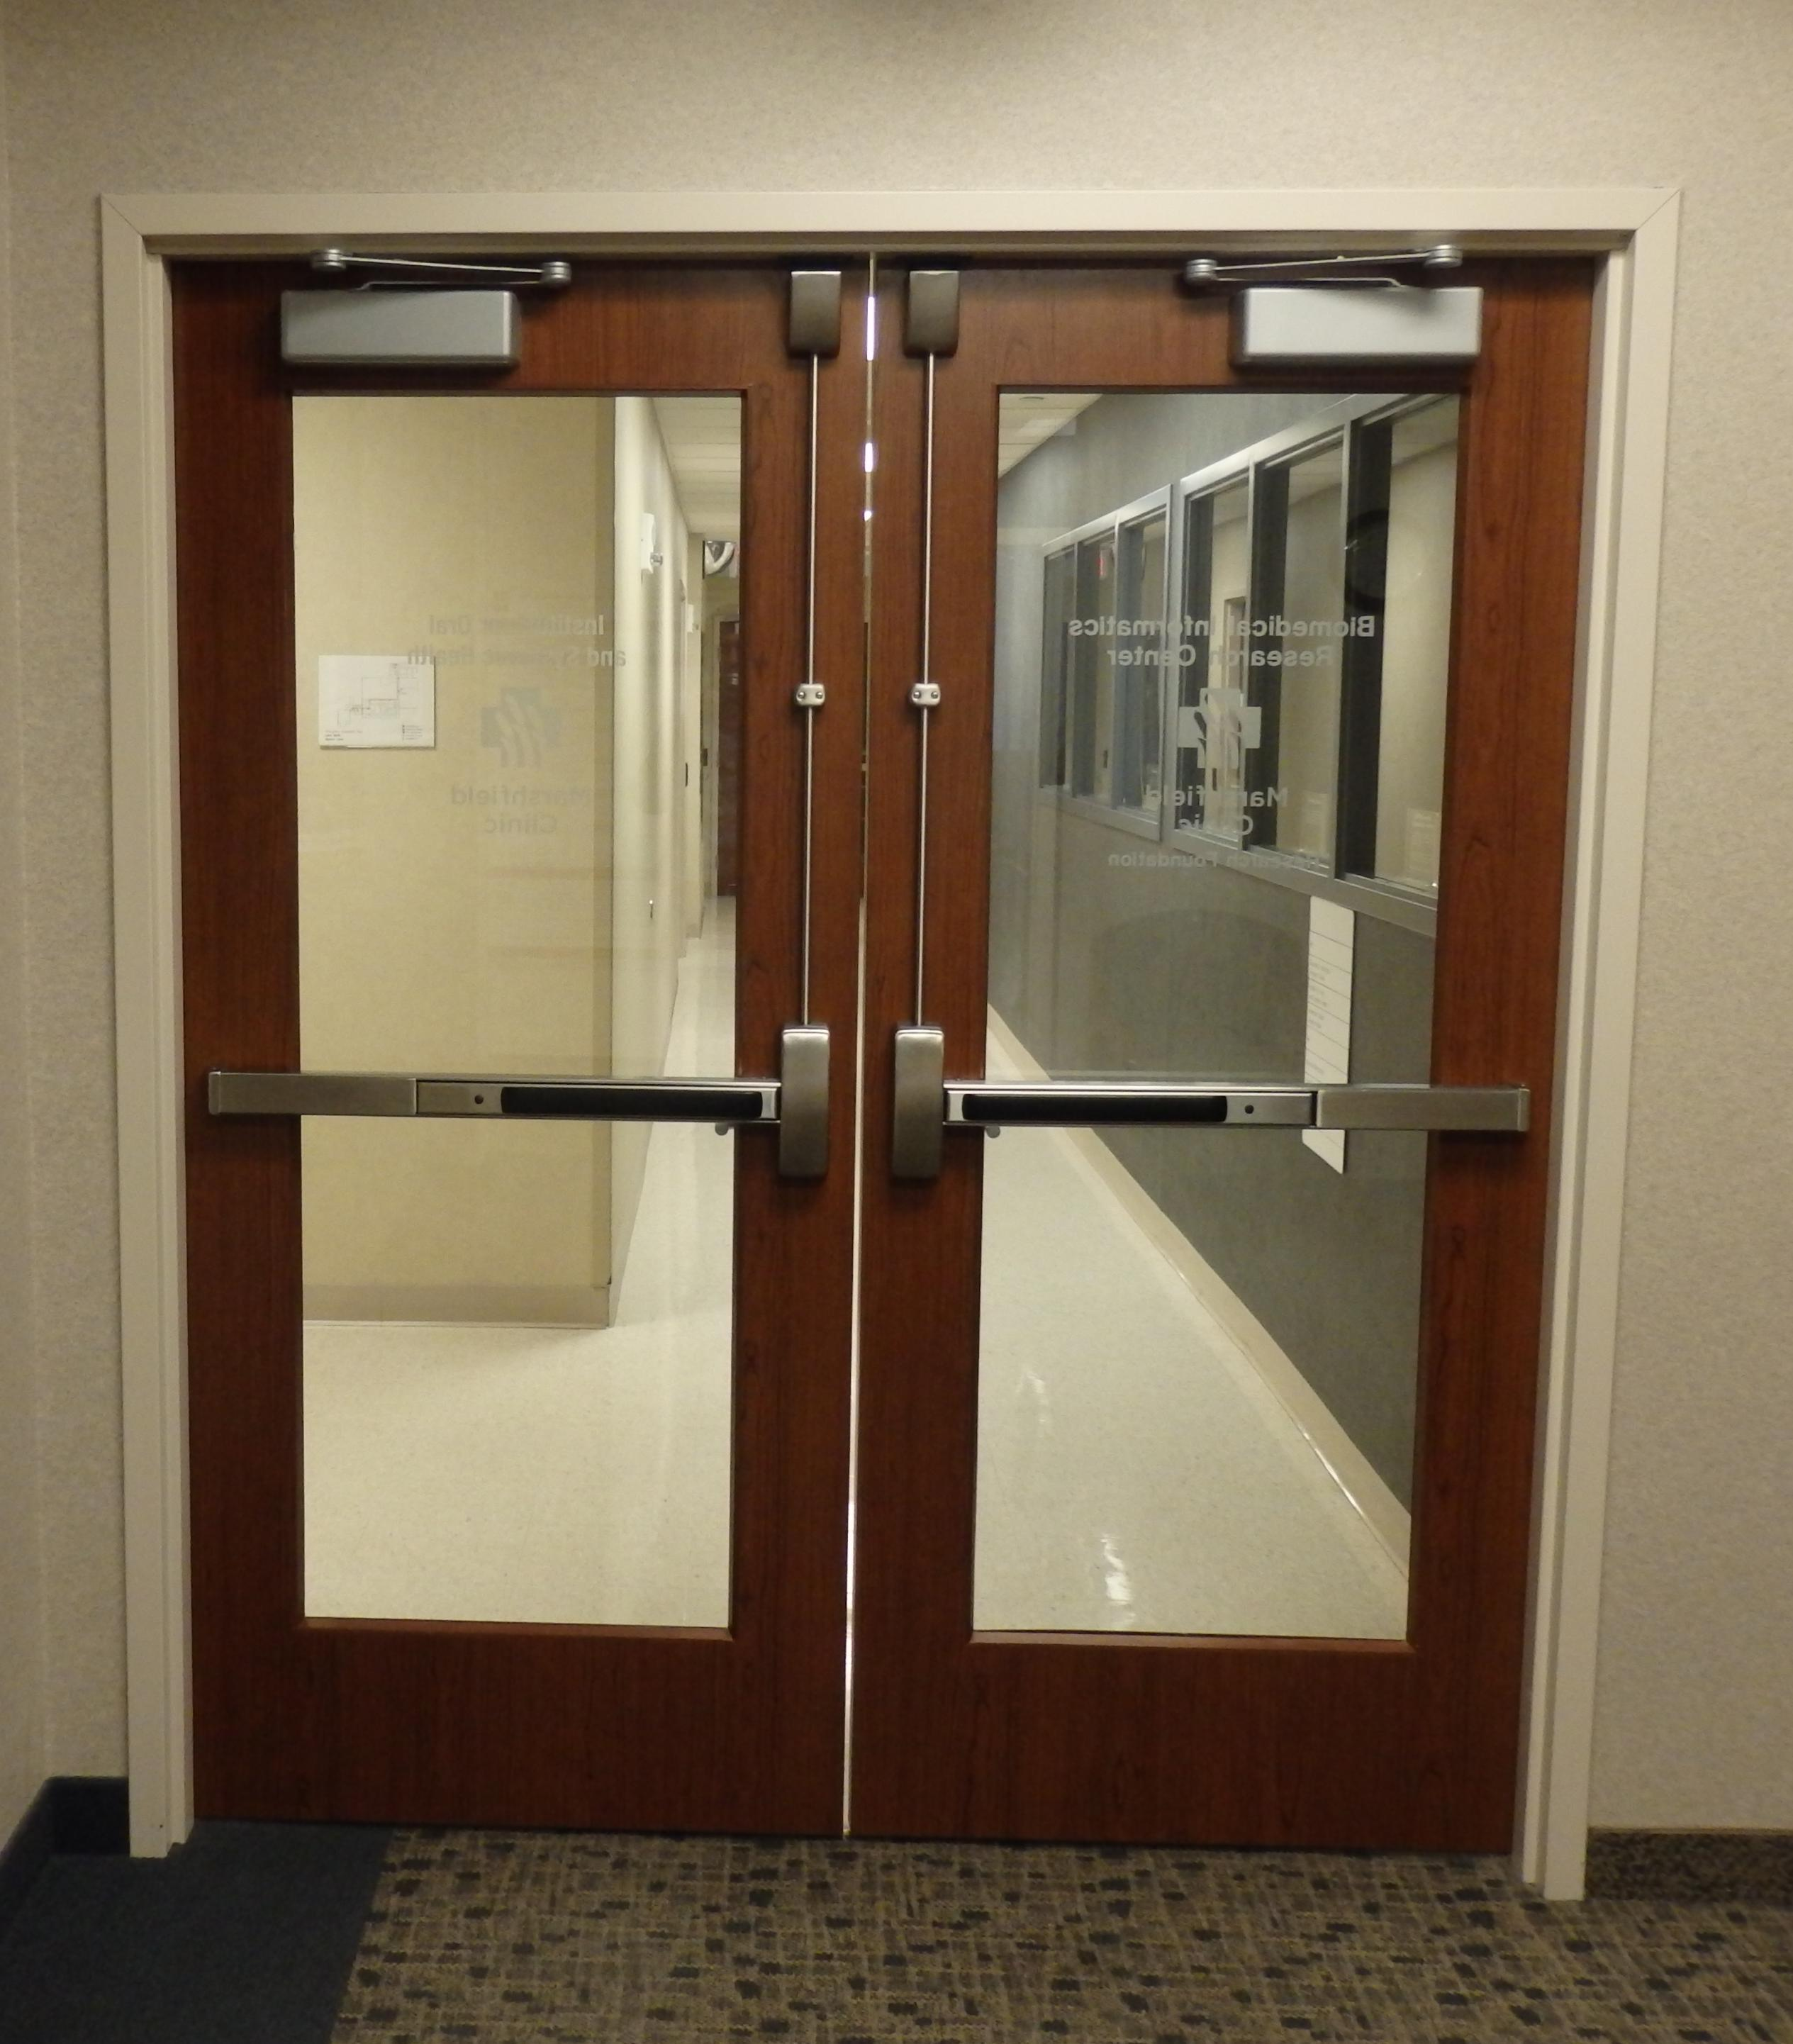door: (115, 200, 1612, 1842)
